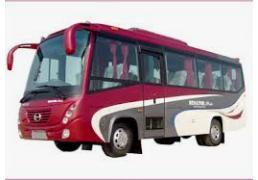bus: (23, 20, 244, 160)
